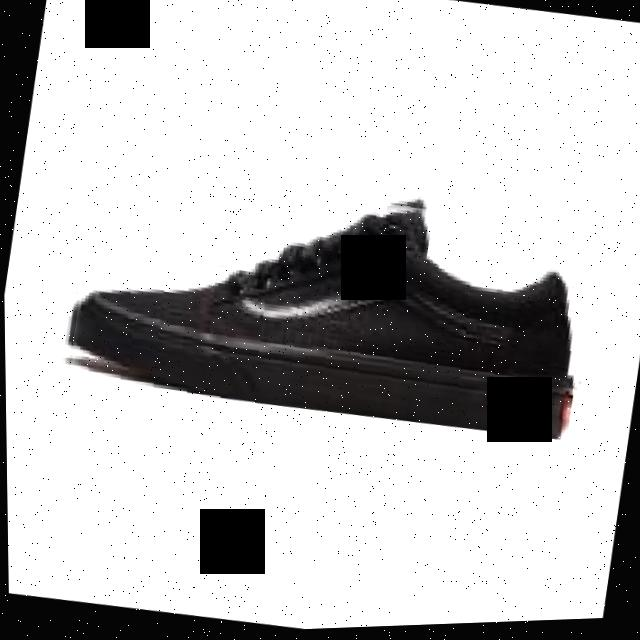shoe: (59, 146, 600, 459)
